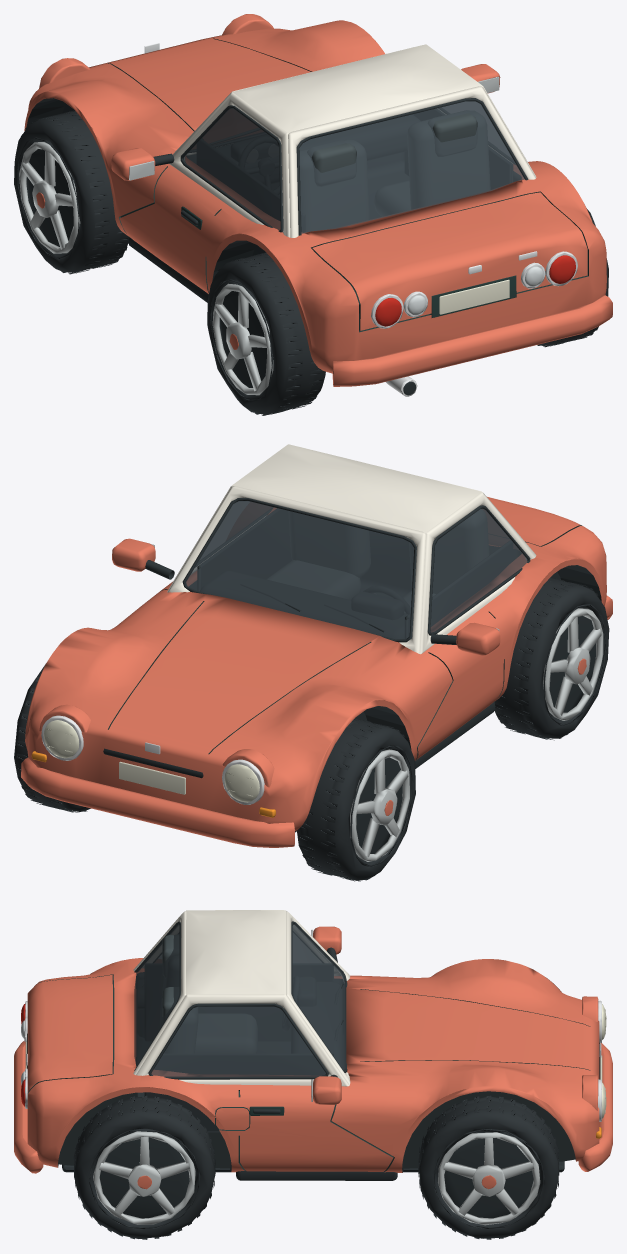
Rendered from roadster_lod2.fbx.
3 views of the same model, one above another, from view 1: azimuth 30°, elevation 25°; view 2: azimuth 150°, elevation 25°; view 3: azimuth 270°, elevation 25° (orthographic). The views are drawn at different scales.
Parts seen in each view (by area): view 1: Body, Wheel_RL_Mesh, Wheel_FL_Mesh; view 2: Body, Wheel_FL_Mesh, Wheel_RL_Mesh, Wheel_FR_Mesh; view 3: Body, Wheel_RR_Mesh, Wheel_FR_Mesh.
Part boxes in pixels (bbox=[...]): Body: bbox=[24, 14, 612, 396]; Wheel_RL_Mesh: bbox=[207, 252, 325, 415]; Wheel_FL_Mesh: bbox=[14, 110, 128, 274]; Body: bbox=[21, 444, 612, 847]; Wheel_FL_Mesh: bbox=[297, 718, 415, 881]; Wheel_RL_Mesh: bbox=[494, 577, 609, 740]; Wheel_FR_Mesh: bbox=[14, 664, 90, 812]; Body: bbox=[14, 910, 612, 1180]; Wheel_RR_Mesh: bbox=[73, 1095, 215, 1239]; Wheel_FR_Mesh: bbox=[418, 1095, 559, 1239].
Size of the model in its own units: 225 by 145 by 348.
